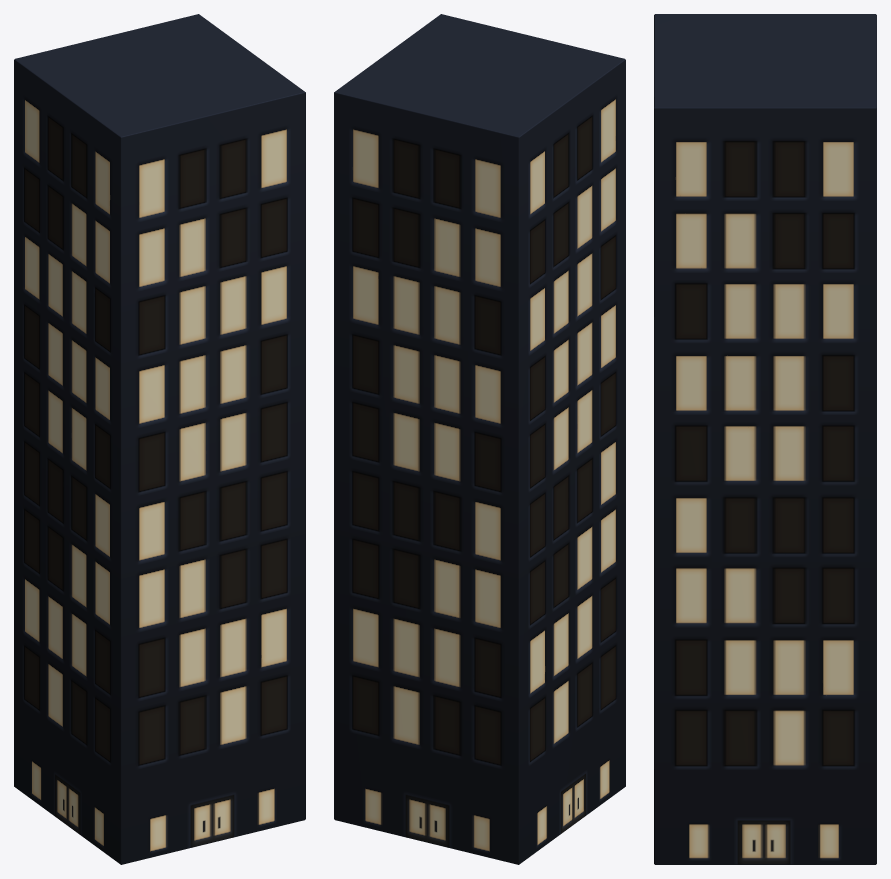
File: mesh_skyscraperBasic.fbx
3 renders of one model, left to right at view 1: azimuth 30°, elevation 25°; view 2: azimuth 150°, elevation 25°; view 3: azimuth 270°, elevation 25°, orthographic. The views are drawn at different scales.
Parts seen in each view (by area): view 1: mesh_skyscraperBasic; view 2: mesh_skyscraperBasic; view 3: mesh_skyscraperBasic.
Boxes of the visible parts, <box> form: mesh_skyscraperBasic: <box>14,14,305,864</box>; mesh_skyscraperBasic: <box>334,14,625,864</box>; mesh_skyscraperBasic: <box>654,14,876,864</box>.
Size of the model in its own units: 1200 by 4500 by 1200.
1 material, 1 textured.
